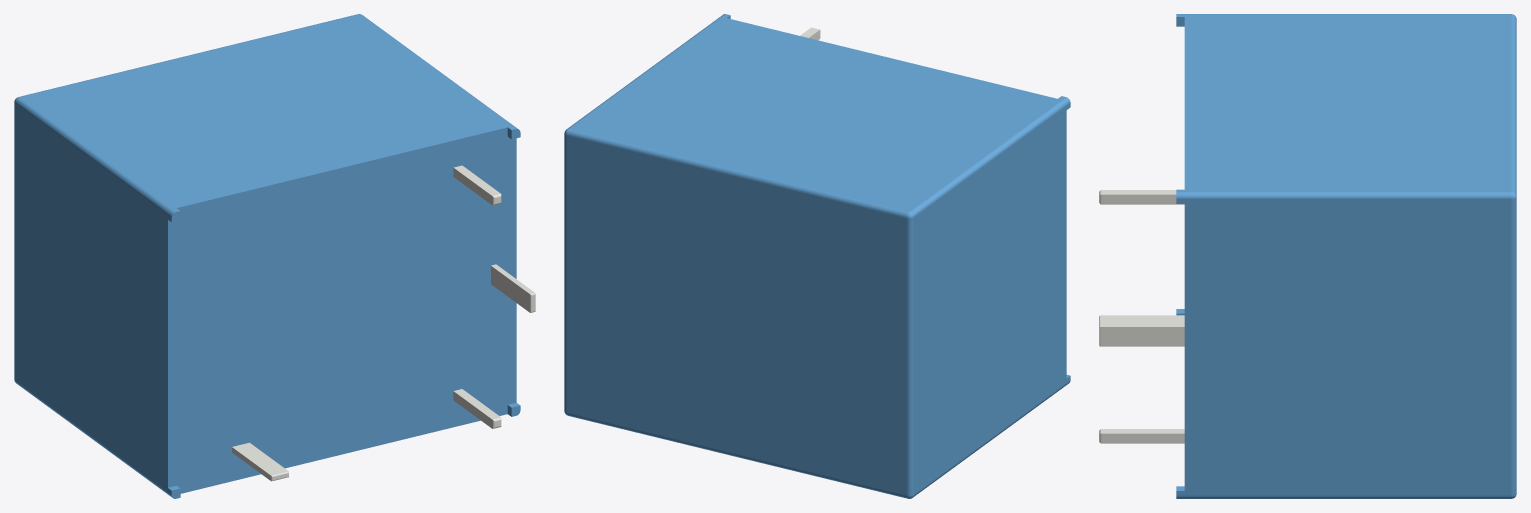
File: Relay_SPST_SANYOU_SRD_Series_Form_A.glb
3 views of the same model, side by side, from view 1: azimuth 30°, elevation 25°; view 2: azimuth 150°, elevation 25°; view 3: azimuth 270°, elevation 25° (orthographic). The views are drawn at different scales.
Visible parts, largest first — view 1: Shape_IndexedFaceSet.007, Shape_IndexedFaceSet.011, Shape_IndexedFaceSet.014, Shape_IndexedFaceSet.035, Shape_IndexedFaceSet.028, Shape_IndexedFaceSet.031; view 2: Shape_IndexedFaceSet.060, Shape_IndexedFaceSet.011, Shape_IndexedFaceSet.014, Shape_IndexedFaceSet.036, Shape_IndexedFaceSet.039, Shape_IndexedFaceSet.035, Shape_IndexedFaceSet.045, Shape_IndexedFaceSet.042; view 3: Shape_IndexedFaceSet.017, Shape_IndexedFaceSet.011, Shape_IndexedFaceSet.037, Shape_IndexedFaceSet.042, Shape_IndexedFaceSet.026, Shape_IndexedFaceSet.043, Shape_IndexedFaceSet.036, Shape_IndexedFaceSet.022, Shape_IndexedFaceSet.006, Shape_IndexedFaceSet.031.
Boxes of the visible parts, x1,y1,x2,y2 form: Shape_IndexedFaceSet.007: (168,127,516,493); Shape_IndexedFaceSet.011: (20,14,515,211); Shape_IndexedFaceSet.014: (15,103,171,494); Shape_IndexedFaceSet.035: (15,97,175,217); Shape_IndexedFaceSet.028: (491,266,529,312); Shape_IndexedFaceSet.031: (232,442,288,475); Shape_IndexedFaceSet.060: (567,135,906,495); Shape_IndexedFaceSet.011: (570,14,1065,211); Shape_IndexedFaceSet.014: (914,103,1070,494); Shape_IndexedFaceSet.036: (567,129,908,218); Shape_IndexedFaceSet.039: (907,217,913,495); Shape_IndexedFaceSet.035: (909,97,1070,216); Shape_IndexedFaceSet.045: (567,413,907,498); Shape_IndexedFaceSet.042: (564,134,566,412); Shape_IndexedFaceSet.017: (1176,199,1511,495); Shape_IndexedFaceSet.011: (1176,14,1511,191); Shape_IndexedFaceSet.037: (1176,192,1511,198); Shape_IndexedFaceSet.042: (1511,197,1516,495); Shape_IndexedFaceSet.026: (1100,327,1184,346); Shape_IndexedFaceSet.043: (1176,495,1511,498); Shape_IndexedFaceSet.036: (1511,14,1516,195); Shape_IndexedFaceSet.022: (1101,433,1184,443); Shape_IndexedFaceSet.006: (1101,194,1184,204); Shape_IndexedFaceSet.031: (1100,315,1184,323).
Size of the model in its own units: 7.72 by 6.06 by 7.48.
